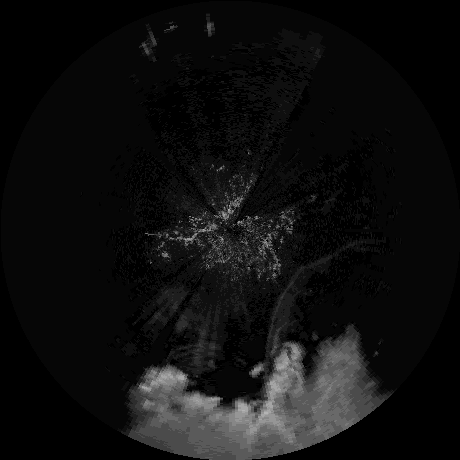frontgust: (269, 246, 357, 349)
